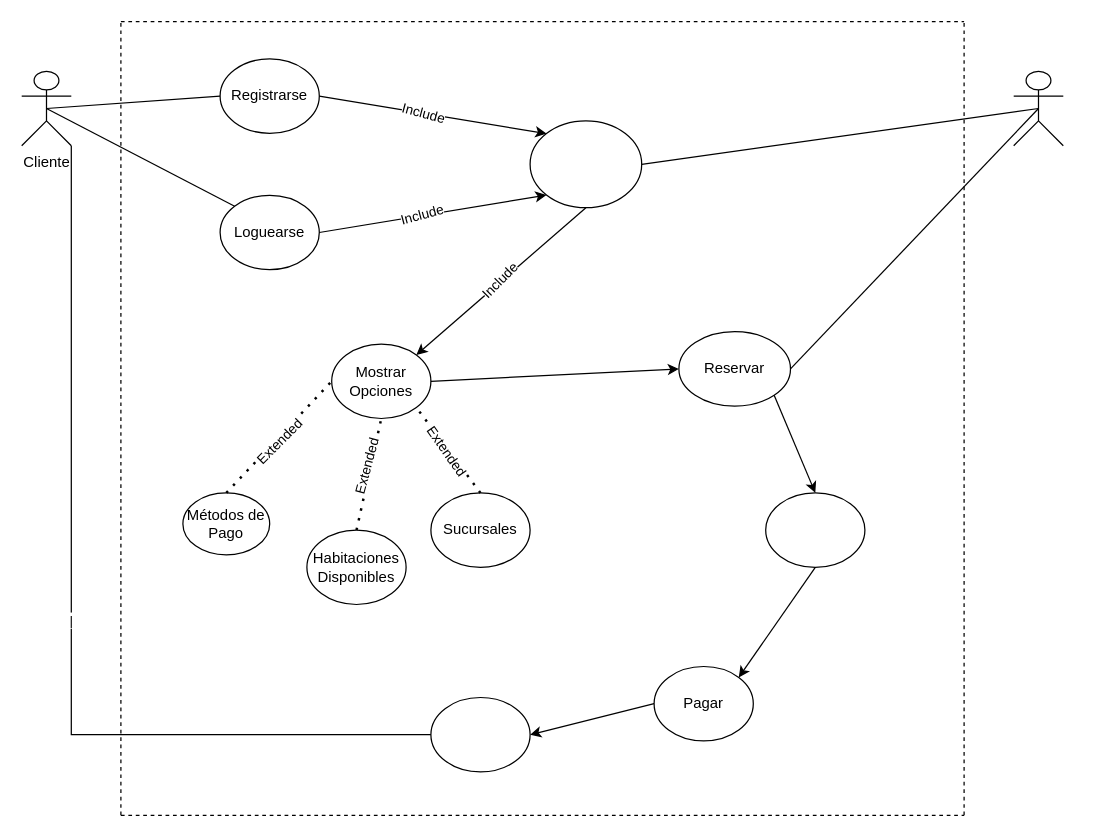
The diagram is 1109 pixels wide and 838 high, and some of its shapes have lost their labels. Each missing label, with the centre of its shape:
"Base de Datos" belongs at point (1037, 108).
"Habitación Disponible" belongs at point (814, 529).
"Notificar" belongs at point (480, 734).
"Validar Cliente" belongs at point (585, 164).
